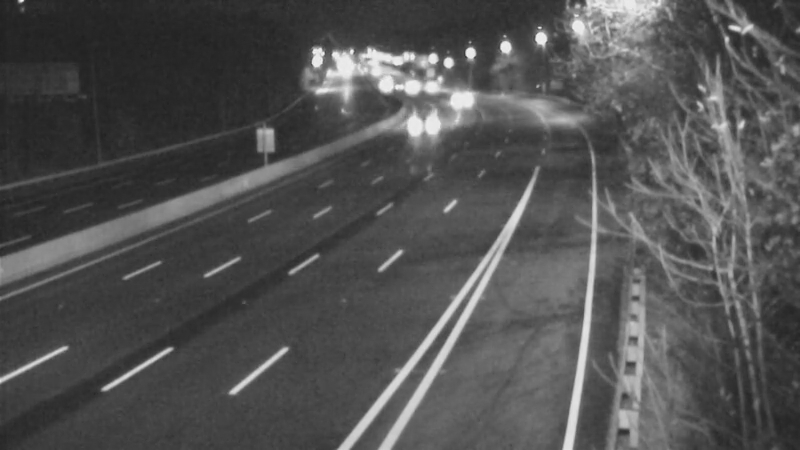vehicle: (403, 64, 453, 114), (382, 63, 432, 113), (361, 62, 411, 112), (430, 73, 480, 123), (399, 98, 449, 148)
